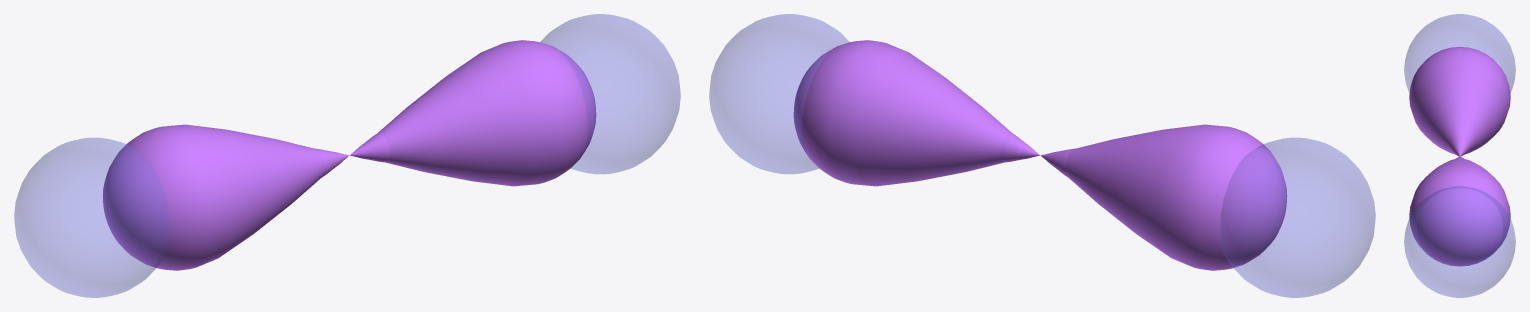
Rendered from s053 4.03c_překryv_sp-s.glb.
The picture shows the model from 3 angles, left to right: view 1: azimuth 30°, elevation 25°; view 2: azimuth 150°, elevation 25°; view 3: azimuth 270°, elevation 25°; orthographic projection. The views are drawn at different scales.
Parts seen in each view (by area): view 1: Sphere_Sphere.002 (×2), hybrid.005_Sphere, hybrid.004_Sphere; view 2: Sphere_Sphere.002 (×2), hybrid.005_Sphere, hybrid.004_Sphere; view 3: Sphere_Sphere.002 (×2), hybrid.004_Sphere, hybrid.005_Sphere.
Part boxes in pixels (bbox=[...]): Sphere_Sphere.002 (×2): bbox=[14, 14, 680, 297]; hybrid.005_Sphere: bbox=[102, 124, 389, 270]; hybrid.004_Sphere: bbox=[316, 40, 596, 186]; Sphere_Sphere.002 (×2): bbox=[709, 14, 1375, 297]; hybrid.005_Sphere: bbox=[1000, 124, 1287, 270]; hybrid.004_Sphere: bbox=[793, 40, 1073, 186]; Sphere_Sphere.002 (×2): bbox=[1404, 14, 1515, 297]; hybrid.004_Sphere: bbox=[1409, 136, 1510, 266]; hybrid.005_Sphere: bbox=[1409, 46, 1510, 158].
Bounding box in the file's own units: 0.1022 × 0.022 × 0.022.
